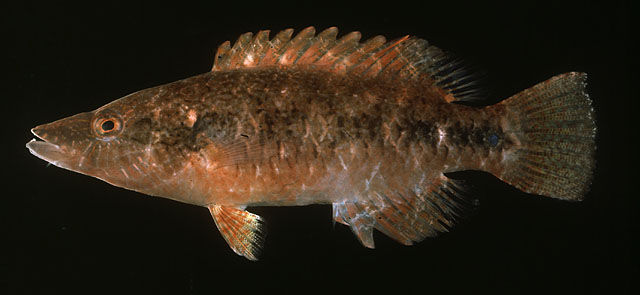fish: (26, 26, 598, 262)
